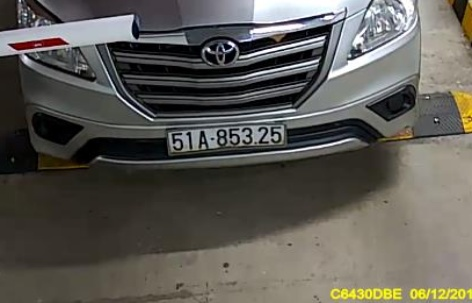plate: (157, 122, 289, 155)
